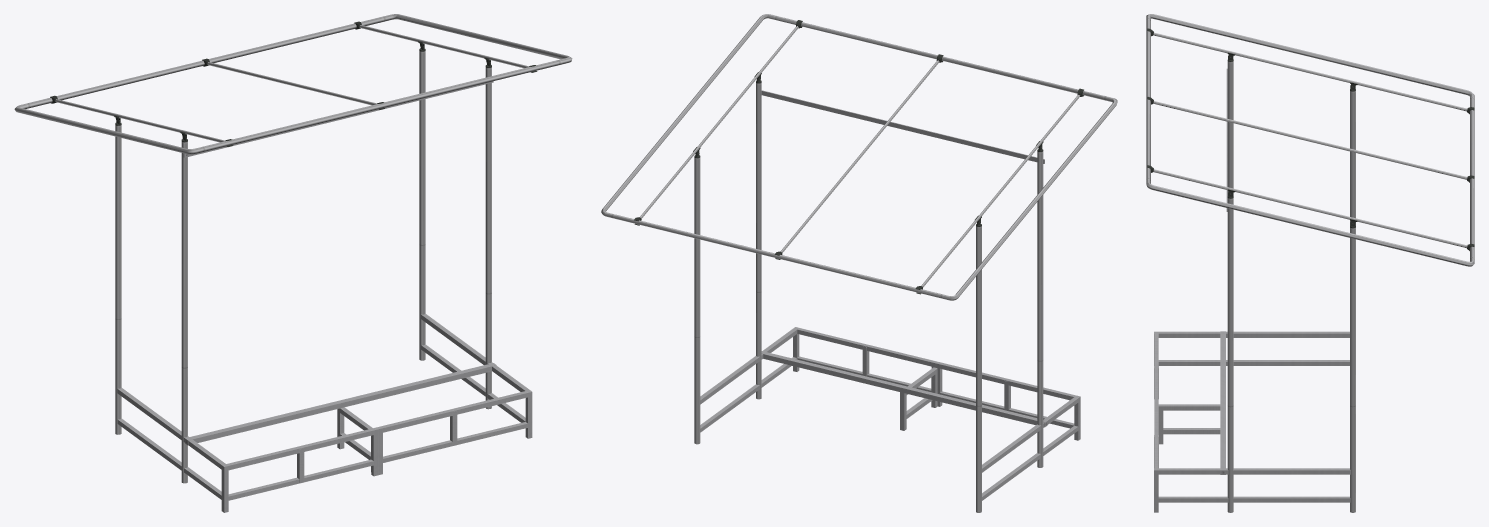
Rendered from jsf_4P_s02_Leg02.fbx.
3 renders of one model, left to right at view 1: azimuth 30°, elevation 25°; view 2: azimuth 150°, elevation 25°; view 3: azimuth 270°, elevation 25°, orthographic. The views are drawn at different scales.
Parts seen in each view (by area): view 1: jsf_4P_s02_Leg02; view 2: jsf_4P_s02_Leg02; view 3: jsf_4P_s02_Leg02.
Boxes of the visible parts, x1,y1,x2,y2 form: jsf_4P_s02_Leg02: [14, 14, 572, 512]; jsf_4P_s02_Leg02: [601, 14, 1117, 512]; jsf_4P_s02_Leg02: [1146, 14, 1474, 512].
Size of the model in its own units: 262 by 243 by 210.
